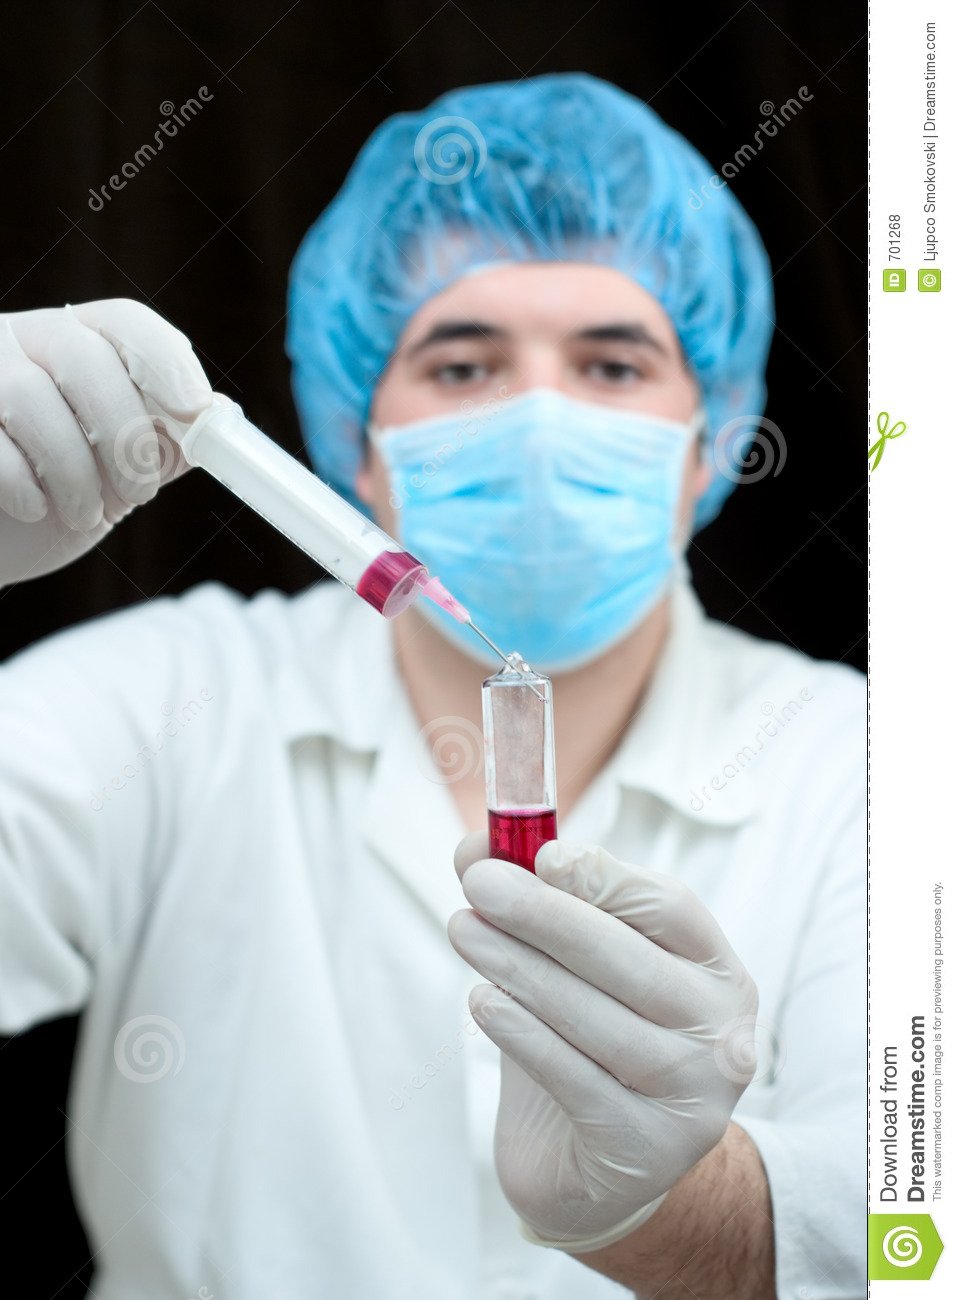mask: (376, 401, 692, 677)
